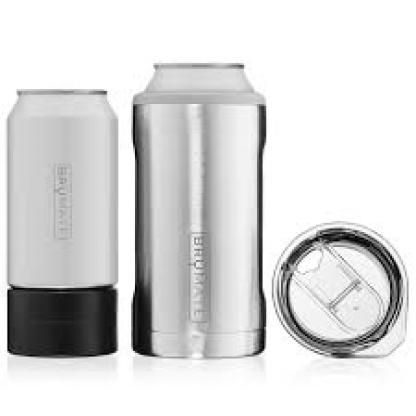METAL: (131, 61, 268, 357), (3, 87, 116, 284), (272, 221, 405, 358)
